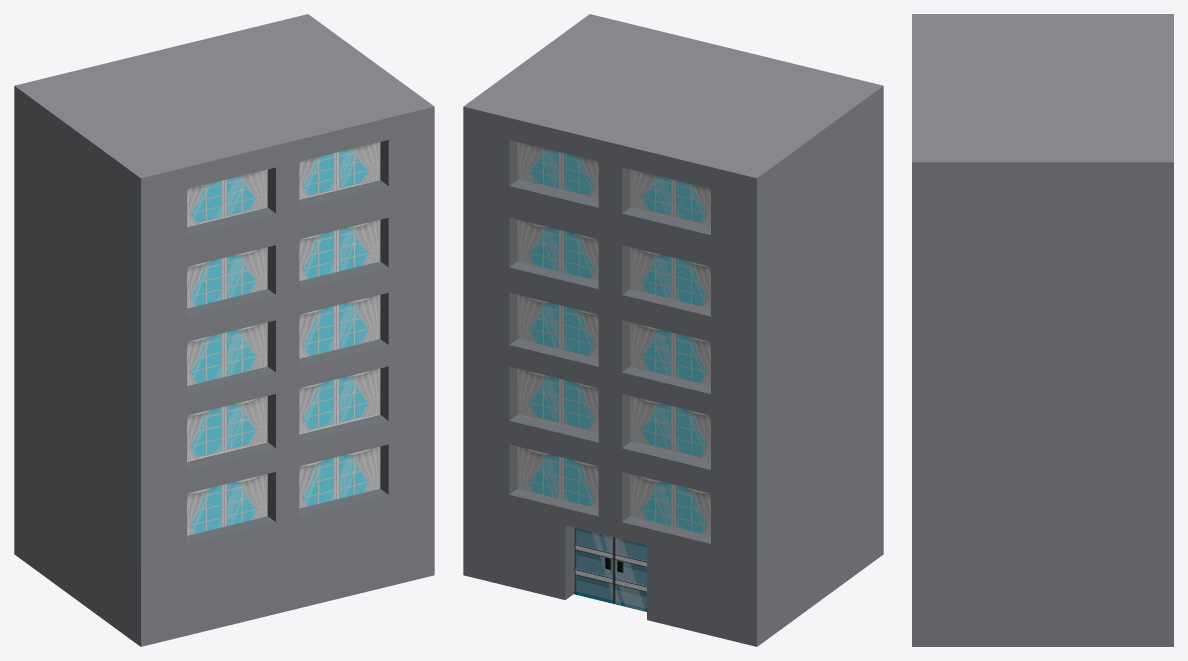
Rendered from edificio2.fbx.
3 renders of one model, left to right at view 1: azimuth 30°, elevation 25°; view 2: azimuth 150°, elevation 25°; view 3: azimuth 270°, elevation 25°, orthographic. The views are drawn at different scales.
Parts seen in each view (by area): view 1: pCube1; view 2: pCube1; view 3: pCube1.
Part boxes in pixels (x1,y1,x2,y2): pCube1: [14, 14, 434, 646]; pCube1: [463, 14, 883, 646]; pCube1: [912, 14, 1173, 646].
Bounding box in the file's own units: 79.98 × 122 × 59.66.
1 material, 1 textured.
